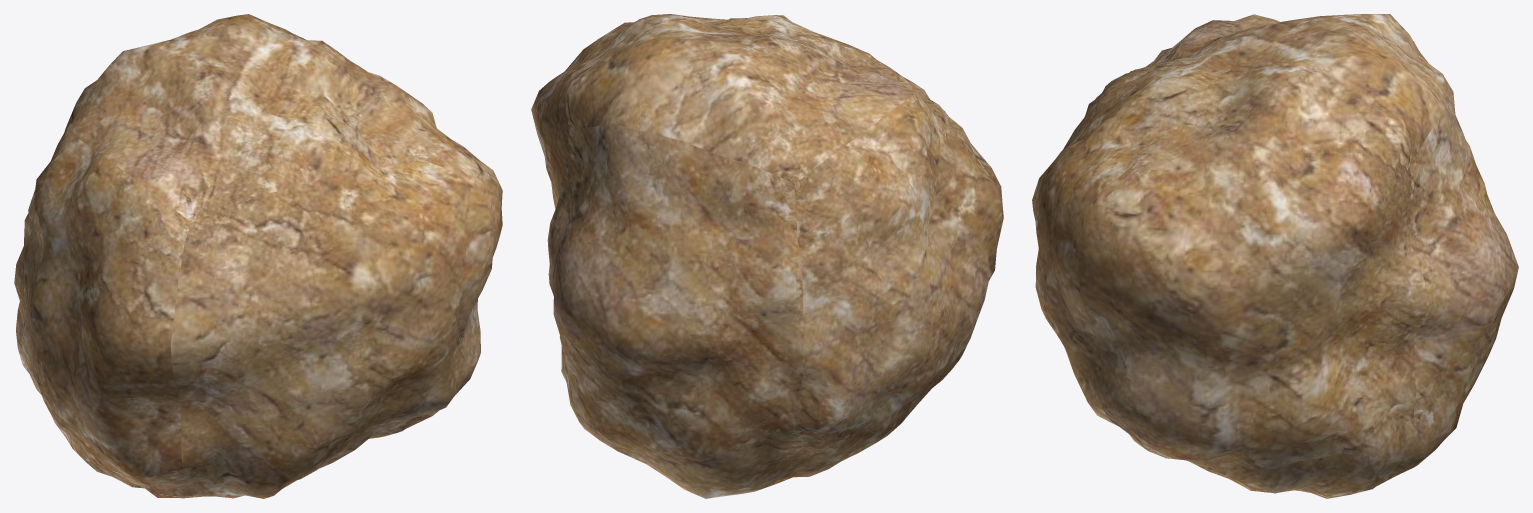
The model's file is asteroid06.obj.
3 views of the same model, side by side, from view 1: azimuth 30°, elevation 25°; view 2: azimuth 150°, elevation 25°; view 3: azimuth 270°, elevation 25° (orthographic). The views are drawn at different scales.
Parts seen in each view (by area): view 1: Cube; view 2: Cube; view 3: Cube.
Boxes of the visible parts, left/top/right/bottom form: Cube: left=14, top=14, right=502, bottom=498; Cube: left=531, top=14, right=1003, bottom=498; Cube: left=1032, top=14, right=1518, bottom=498.
Bounding box in the file's own units: 1.82 × 1.84 × 1.81.
Materials: 1 (1 with a texture image).
